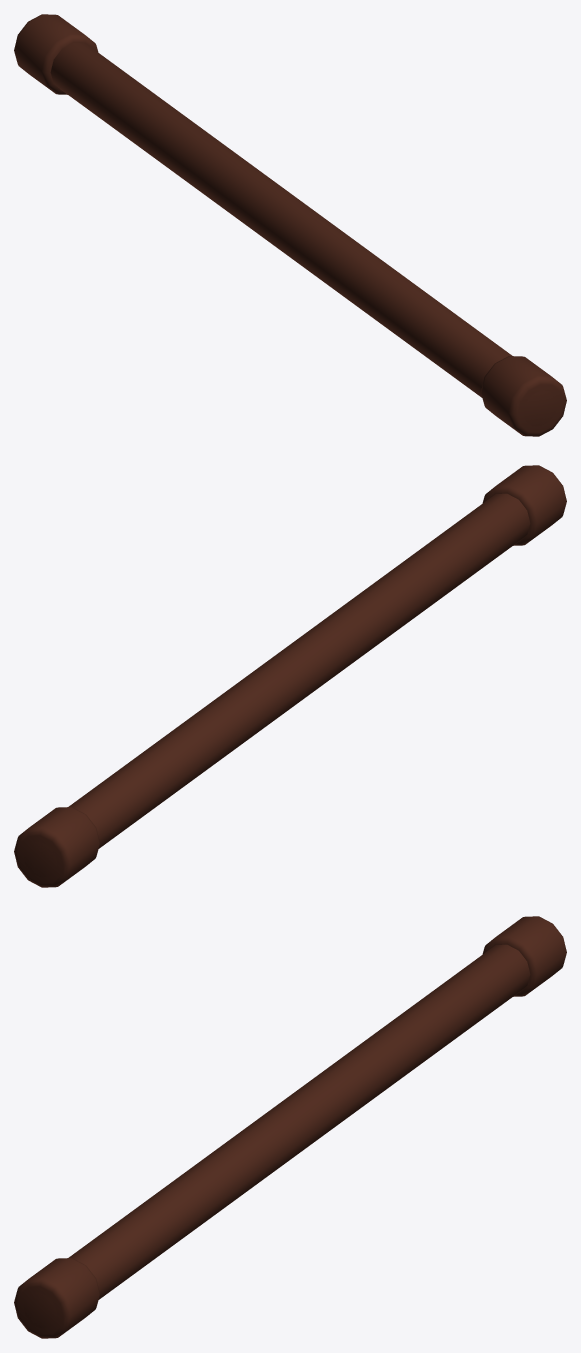
File: BB_PROP_Conduit_Straight.obj
The picture shows the model from 3 angles, top to bottom: view 1: azimuth 30°, elevation 25°; view 2: azimuth 150°, elevation 25°; view 3: azimuth 330°, elevation 25°; orthographic projection.
Visible parts, largest first — view 1: BB_PROP_Conduit_Straight; view 2: BB_PROP_Conduit_Straight; view 3: BB_PROP_Conduit_Straight.
Boxes of the visible parts, left/top/right/bottom form: BB_PROP_Conduit_Straight: left=14, top=14, right=566, bottom=436; BB_PROP_Conduit_Straight: left=14, top=465, right=566, bottom=887; BB_PROP_Conduit_Straight: left=14, top=916, right=566, bottom=1338.
Size of the model in its own units: 0.1 by 0.1 by 1.5.
